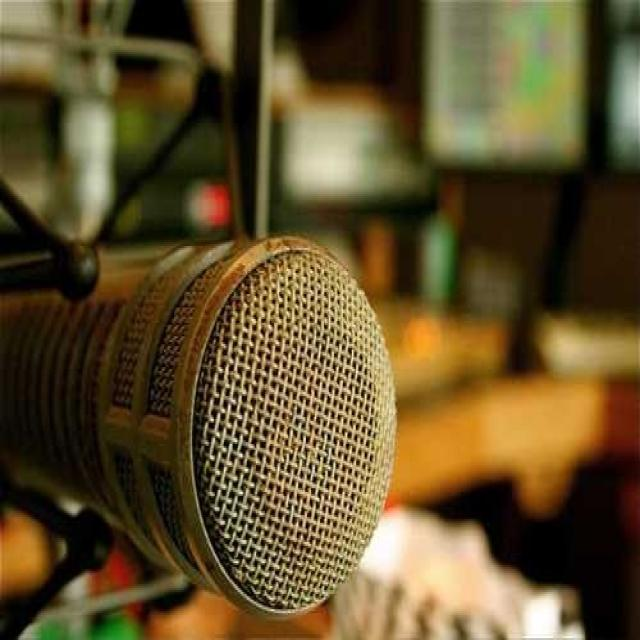microphone: (3, 236, 386, 611)
